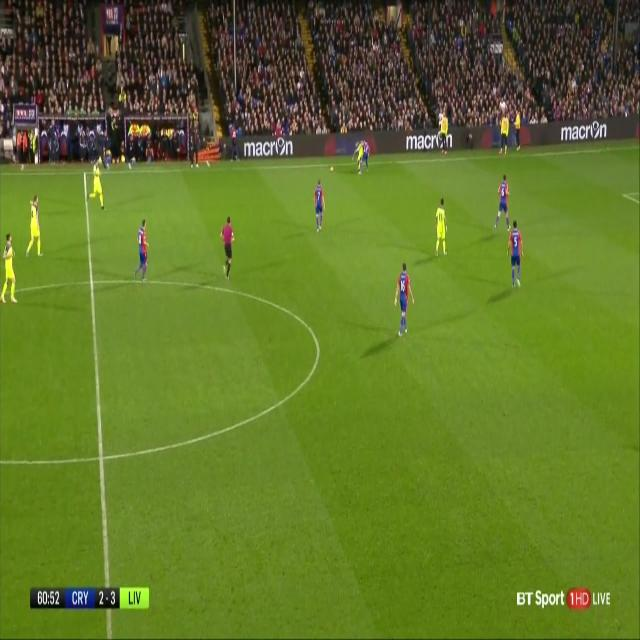Ball: (328, 163, 336, 176)
Player: (393, 261, 416, 341), (0, 228, 19, 306), (507, 218, 524, 294), (84, 156, 107, 212), (26, 191, 44, 262), (490, 172, 512, 230), (134, 216, 152, 285), (432, 195, 448, 262), (313, 177, 327, 239), (361, 137, 370, 178), (354, 141, 363, 178)
Referee: (221, 213, 236, 287)
